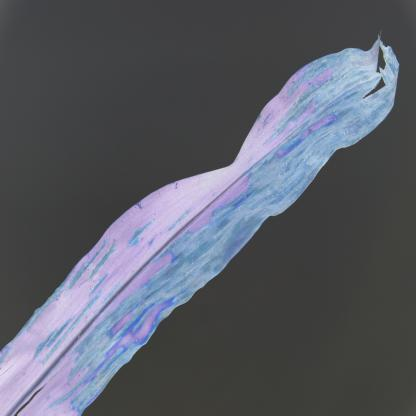corn gray leaf spot: (9, 32, 412, 413)
